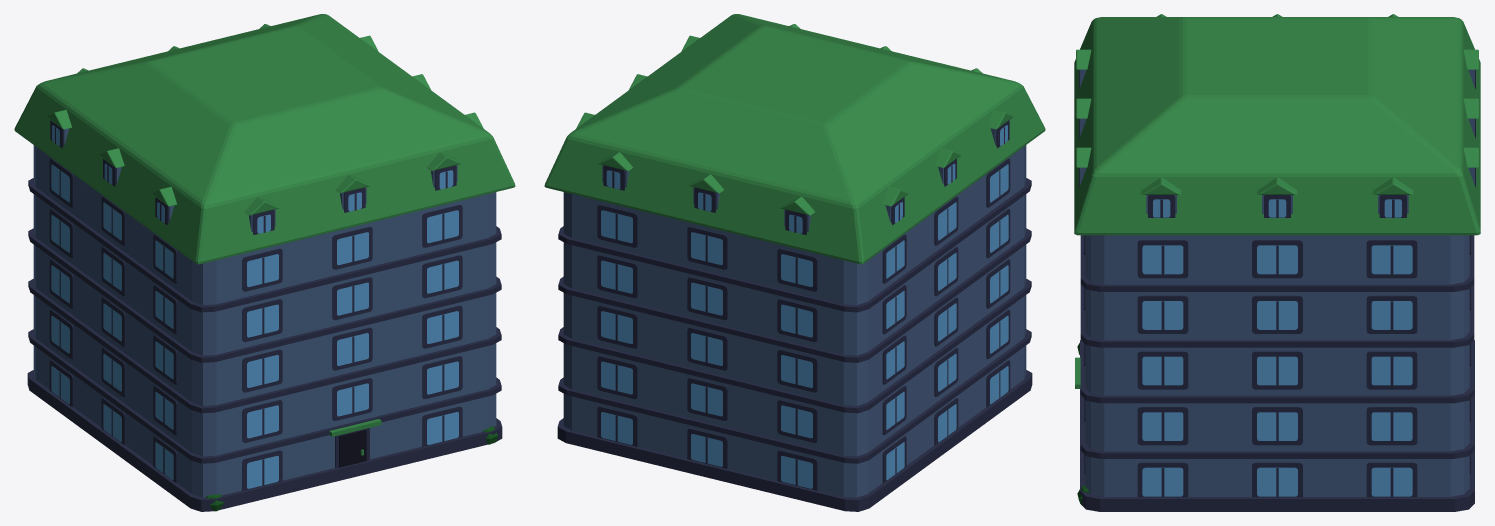
Rendered from house-2x2-5f-mansard-b.glb.
3 views of the same model, side by side, from view 1: azimuth 30°, elevation 25°; view 2: azimuth 150°, elevation 25°; view 3: azimuth 270°, elevation 25° (orthographic). The views are drawn at different scales.
Visible parts, largest first — view 1: house-2x2-5f-mansard-b; view 2: house-2x2-5f-mansard-b; view 3: house-2x2-5f-mansard-b.
Part boxes in pixels (x1=…): house-2x2-5f-mansard-b: x1=14, y1=14, x2=515, y2=511; house-2x2-5f-mansard-b: x1=544, y1=14, x2=1045, y2=511; house-2x2-5f-mansard-b: x1=1074, y1=14, x2=1480, y2=511.
Size of the model in its own units: 1.99 by 2.01 by 1.99.
1 material, 1 textured.
